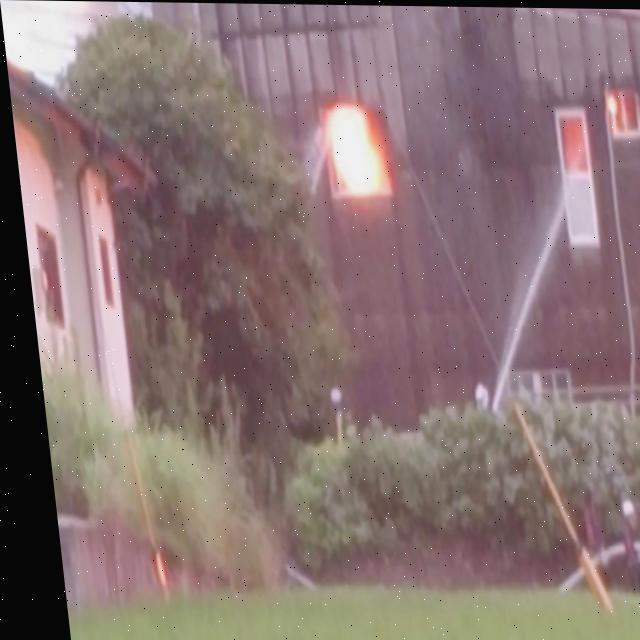Fire: (314, 94, 388, 193)
